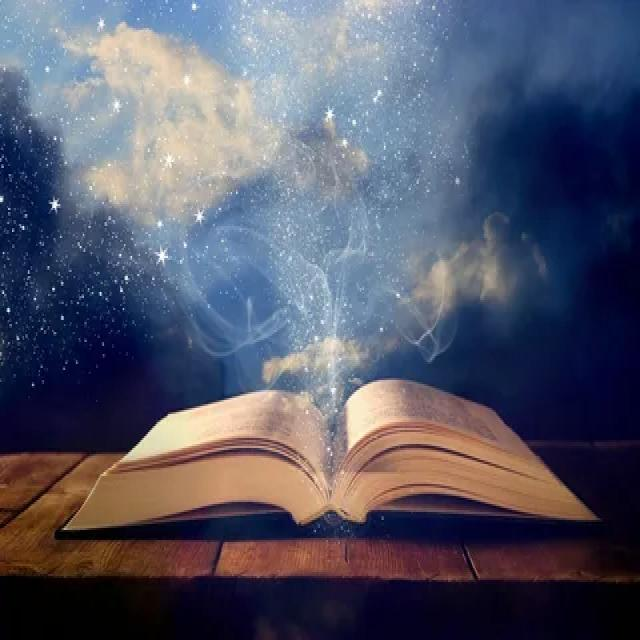book: (42, 362, 628, 568)
